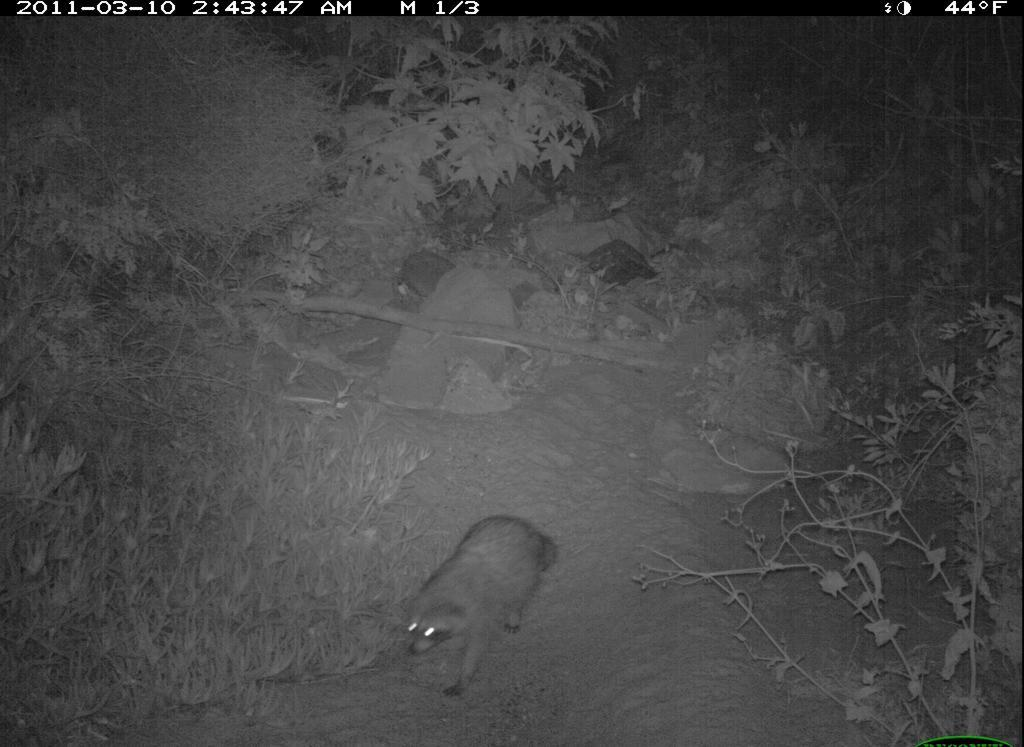raccoon: (377, 501, 582, 697)
